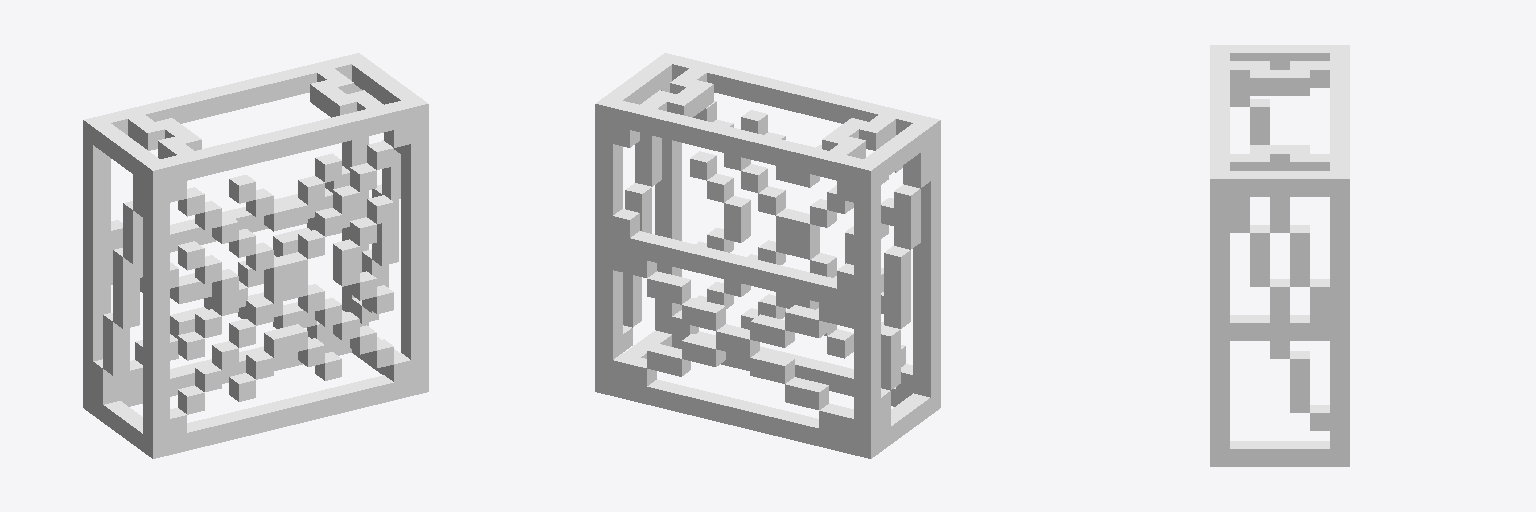
File: RoboZomboChestColOnly.obj
The picture shows the model from 3 angles: view 1: azimuth 30°, elevation 25°; view 2: azimuth 150°, elevation 25°; view 3: azimuth 270°, elevation 25°; orthographic projection.
Size of the model in its own units: 16 by 16 by 7.